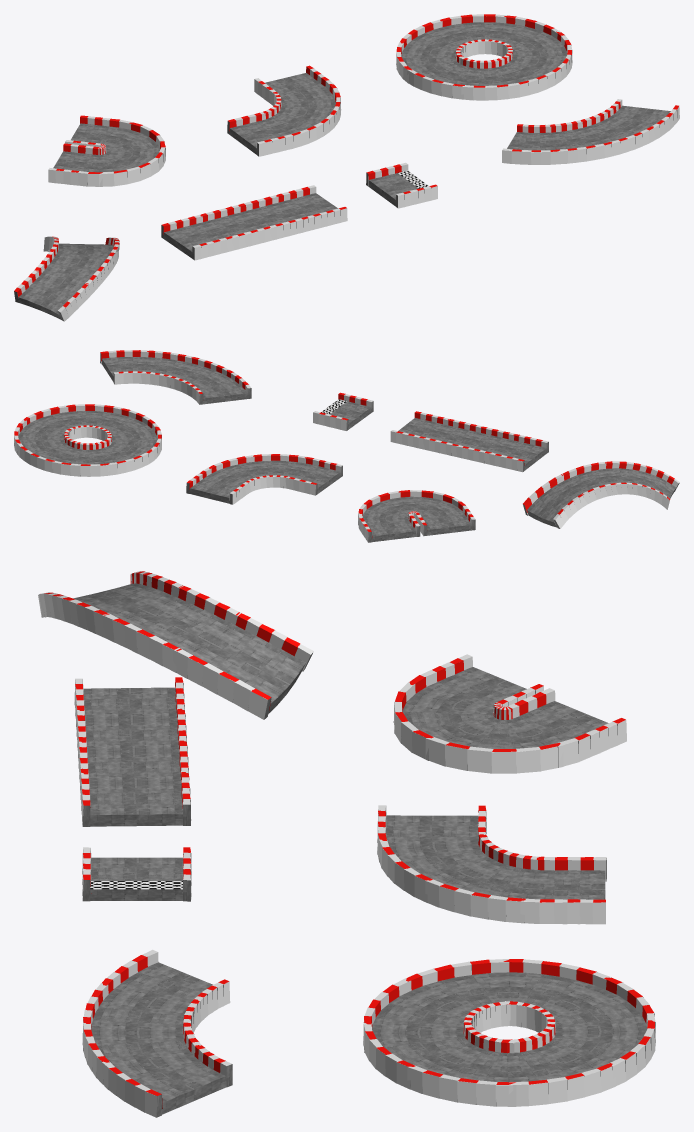
Rendered from showcaseRaceRoadTracks.7ff523cb.glb.
3 views of the same model, one above another, from view 1: azimuth 30°, elevation 25°; view 2: azimuth 150°, elevation 25°; view 3: azimuth 270°, elevation 25° (orthographic). The views are drawn at different scales.
Parts seen in each view (by area): view 1: block.007, block.003, block.005, block.001, block.008, block.006, block.009, Base, Support.001; view 2: block.009, block.001, block.003, block.007, block.008, block.006, block.005, Base, Support; view 3: block.009, block.001, block.008, block.005, block.006, block.003, block.007, Base, finish_ine.002.
Boxes of the visible parts, x1,y1,x2,y2 form: block.007: (161, 185, 347, 260); block.003: (502, 99, 679, 164); block.005: (407, 31, 572, 100); block.001: (227, 65, 341, 156); block.008: (48, 115, 165, 186); block.006: (396, 14, 560, 83); block.009: (14, 236, 119, 321); Base: (368, 173, 420, 206); Support.001: (396, 184, 437, 208); block.009: (523, 461, 679, 528); block.001: (186, 454, 342, 504); block.003: (100, 350, 251, 404); block.007: (390, 411, 548, 472); block.008: (358, 490, 475, 542); block.006: (14, 419, 154, 476); block.005: (24, 404, 161, 459); Base: (329, 401, 371, 429); Support: (313, 411, 348, 430); block.009: (38, 571, 313, 719); block.001: (377, 805, 606, 924); block.008: (393, 654, 626, 773); block.005: (363, 959, 516, 1106); block.006: (503, 959, 655, 1106); block.003: (82, 949, 232, 1117); block.007: (74, 677, 191, 826); Base: (90, 857, 182, 900); finish_ine.002: (90, 881, 182, 889).
Size of the model in its own units: 10318 by 578 by 4887.
5 materials, 2 textured.
